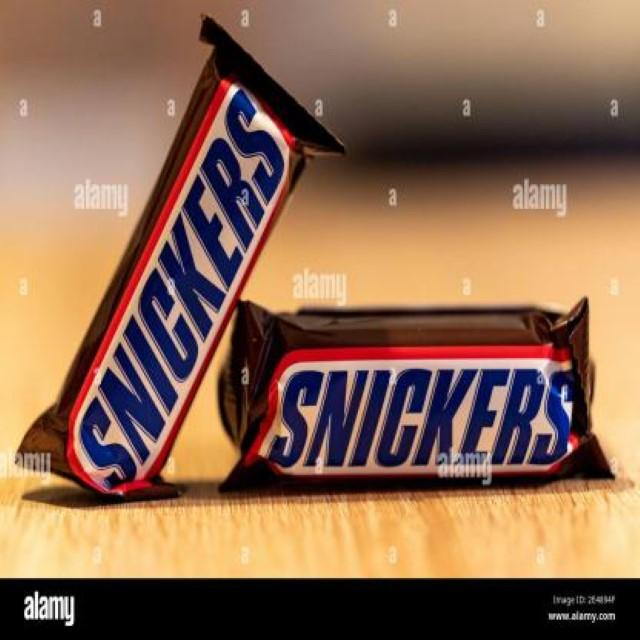snickers_chocolate: (18, 47, 328, 502), (252, 295, 608, 498)
